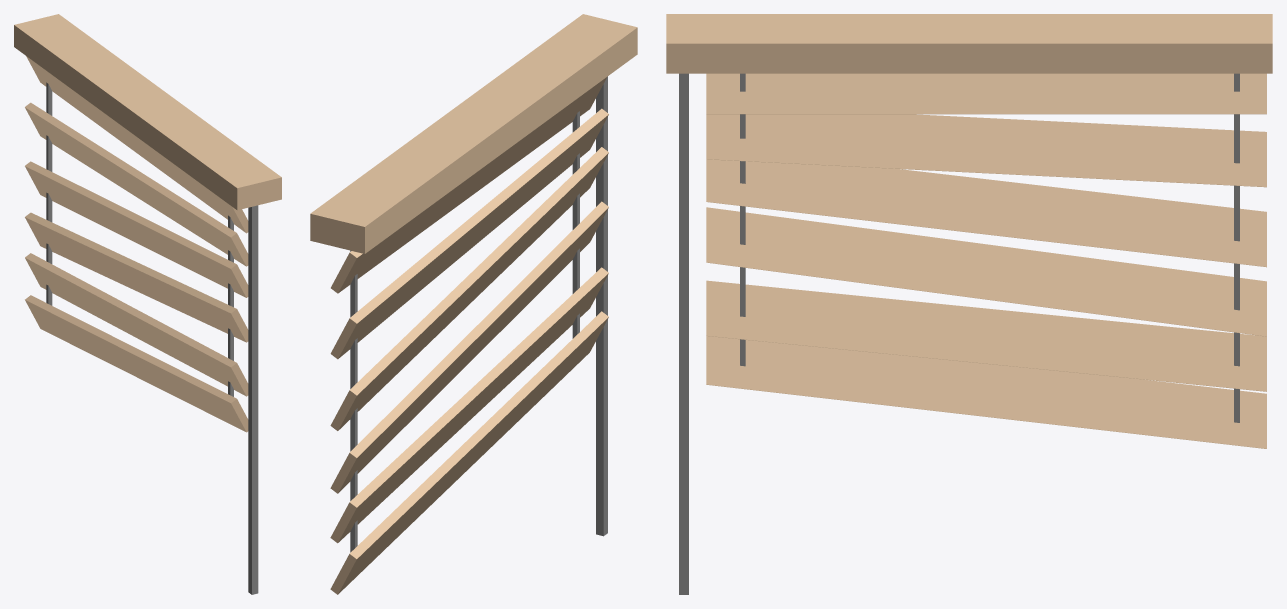
Rendered from roll1.fbx.
The picture shows the model from 3 angles, left to right: view 1: azimuth 30°, elevation 25°; view 2: azimuth 150°, elevation 25°; view 3: azimuth 270°, elevation 25°; orthographic projection. The views are drawn at different scales.
Parts seen in each view (by area): view 1: roll1; view 2: roll1; view 3: roll1.
Part boxes in pixels (x1,y1,x2,y2): roll1: (14,14,281,594); roll1: (310,14,637,594); roll1: (666,14,1272,594).
Bounding box in the file's own units: 5.51 × 48.91 × 47.68.
